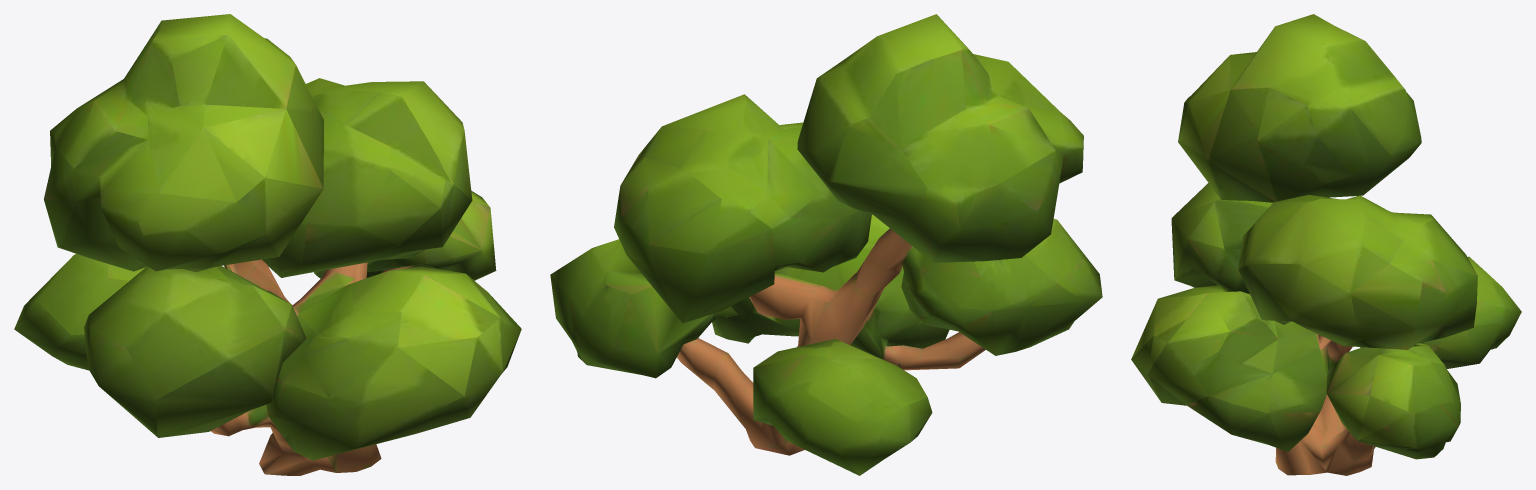
Rendered from tree_open.glb.
The picture shows the model from 3 angles, left to right: view 1: azimuth 30°, elevation 25°; view 2: azimuth 150°, elevation 25°; view 3: azimuth 270°, elevation 25°; orthographic projection. The views are drawn at different scales.
Visible parts, largest first — view 1: tree_open; view 2: tree_open; view 3: tree_open.
Boxes of the visible parts, bbox=[...] form: tree_open: bbox=[14, 14, 521, 475]; tree_open: bbox=[550, 14, 1102, 475]; tree_open: bbox=[1131, 14, 1521, 475].
Bounding box in the file's own units: 5.97 × 5.4 × 4.98.
1 material, 1 textured.
